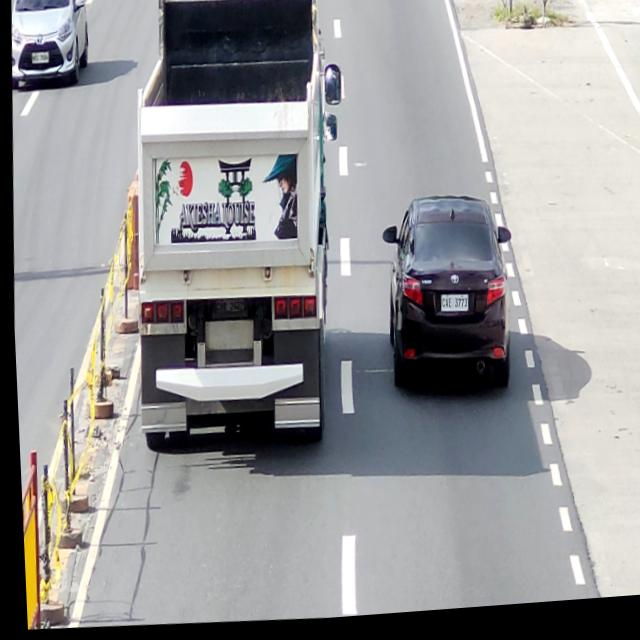Car: (372, 195, 515, 401), (8, 0, 91, 92)
License-Plate: (210, 296, 242, 323), (435, 296, 467, 321), (28, 48, 50, 71)
Truck: (117, 0, 356, 459)
